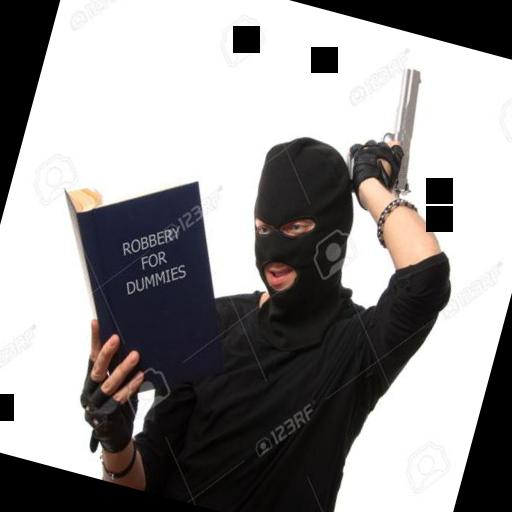Handgun: (337, 52, 440, 204)
